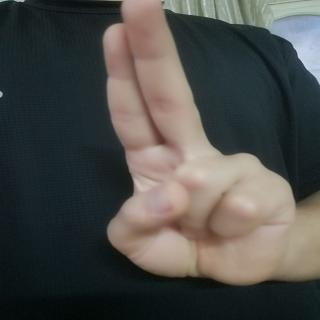TA: (97, 0, 309, 300)
